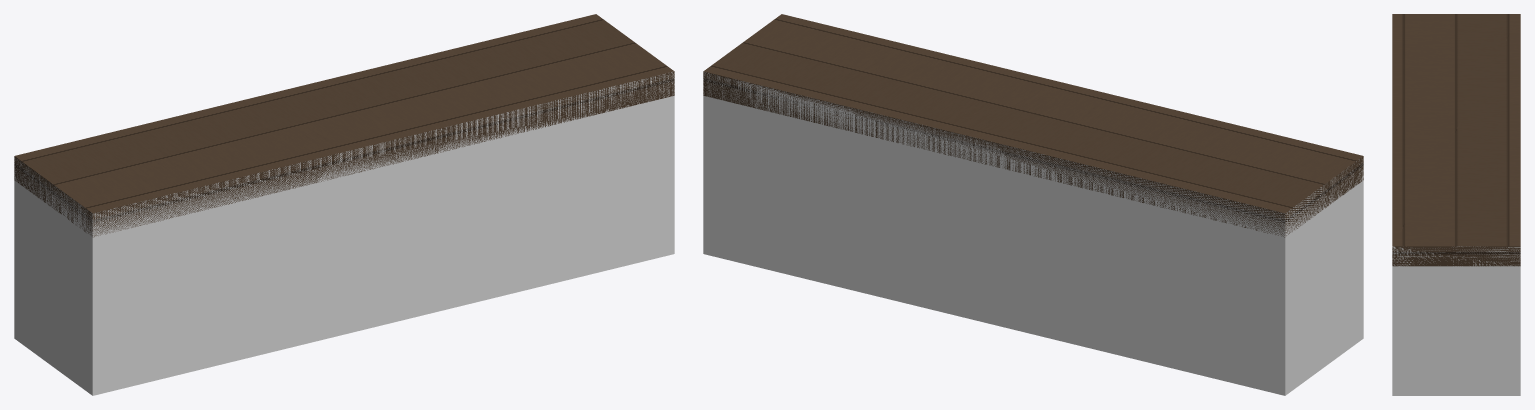
File: bench.glb
The picture shows the model from 3 angles, left to right: view 1: azimuth 30°, elevation 25°; view 2: azimuth 150°, elevation 25°; view 3: azimuth 270°, elevation 25°; orthographic projection. The views are drawn at different scales.
Parts seen in each view (by area): view 1: COL_HULL_bench, bench; view 2: COL_HULL_bench, bench; view 3: bench, COL_HULL_bench.
Boxes of the visible parts, x1,y1,x2,y2 form: COL_HULL_bench: [14, 71, 674, 395]; bench: [14, 14, 674, 237]; COL_HULL_bench: [703, 71, 1363, 395]; bench: [703, 14, 1363, 237]; bench: [1392, 14, 1520, 266]; COL_HULL_bench: [1392, 246, 1520, 395].
Bounding box in the file's own units: 1.5 × 0.45 × 0.35.
2 materials, 2 textured.
